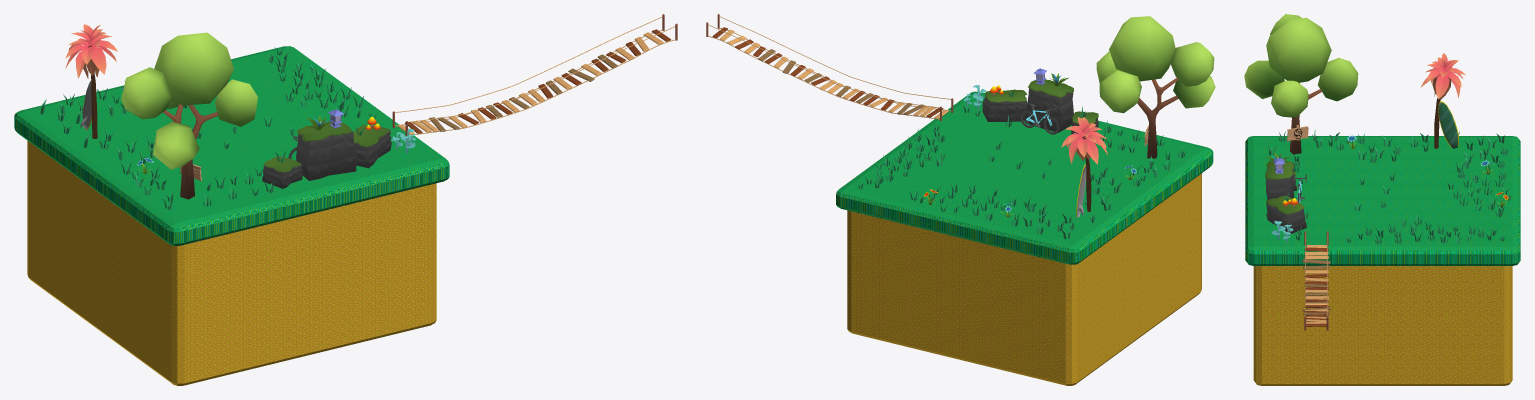
The model's file is hobbies island.glb.
The picture shows the model from 3 angles, left to right: view 1: azimuth 30°, elevation 25°; view 2: azimuth 150°, elevation 25°; view 3: azimuth 270°, elevation 25°; orthographic projection. The views are drawn at different scales.
Parts seen in each view (by area): view 1: Hobbys island, TreeR1_GRADIENT_0, ClifBg2_GRADIENT_0, TreeDC_GRADIENT_0, ClifBg2_GRADIENT_0.002, ClifBg2_GRADIENT_0.001, BezierCurve.002; view 2: Hobbys island, TreeR1_GRADIENT_0, ClifBg2_GRADIENT_0, TreeDC_GRADIENT_0, ClifBg2_GRADIENT_0.002, BezierCurve.002, Object_2; view 3: Hobbys island, TreeR1_GRADIENT_0, TreeDC_GRADIENT_0, ClifBg2_GRADIENT_0.002, ClifBg2_GRADIENT_0, Cube.002_prancha2_0, Petit panneau.004.
Part boxes in pixels (<box>): Hobbys island: <box>14,46,449,385</box>; TreeR1_GRADIENT_0: <box>121,32,257,199</box>; ClifBg2_GRADIENT_0: <box>296,121,356,180</box>; TreeDC_GRADIENT_0: <box>65,24,117,138</box>; ClifBg2_GRADIENT_0.002: <box>353,124,391,168</box>; ClifBg2_GRADIENT_0.001: <box>262,156,302,188</box>; BezierCurve.002: <box>395,16,675,122</box>; Hobbys island: <box>836,91,1213,385</box>; TreeR1_GRADIENT_0: <box>1096,16,1215,158</box>; ClifBg2_GRADIENT_0: <box>1025,79,1073,132</box>; TreeDC_GRADIENT_0: <box>1061,117,1107,211</box>; ClifBg2_GRADIENT_0.002: <box>982,89,1027,121</box>; BezierCurve.002: <box>708,16,951,107</box>; Object_2: <box>1020,103,1059,134</box>; Hobbys island: <box>1245,136,1520,385</box>; TreeR1_GRADIENT_0: <box>1244,14,1358,154</box>; TreeDC_GRADIENT_0: <box>1420,53,1465,148</box>; ClifBg2_GRADIENT_0.002: <box>1266,196,1306,233</box>; ClifBg2_GRADIENT_0: <box>1265,160,1294,210</box>; Cube.002_prancha2_0: <box>1438,101,1458,148</box>; Petit panneau.004: <box>1286,125,1308,141</box>.
Bounding box in the file's own units: 72.07 × 39.79 × 36.15.
Materials: 17 (5 with a texture image).
